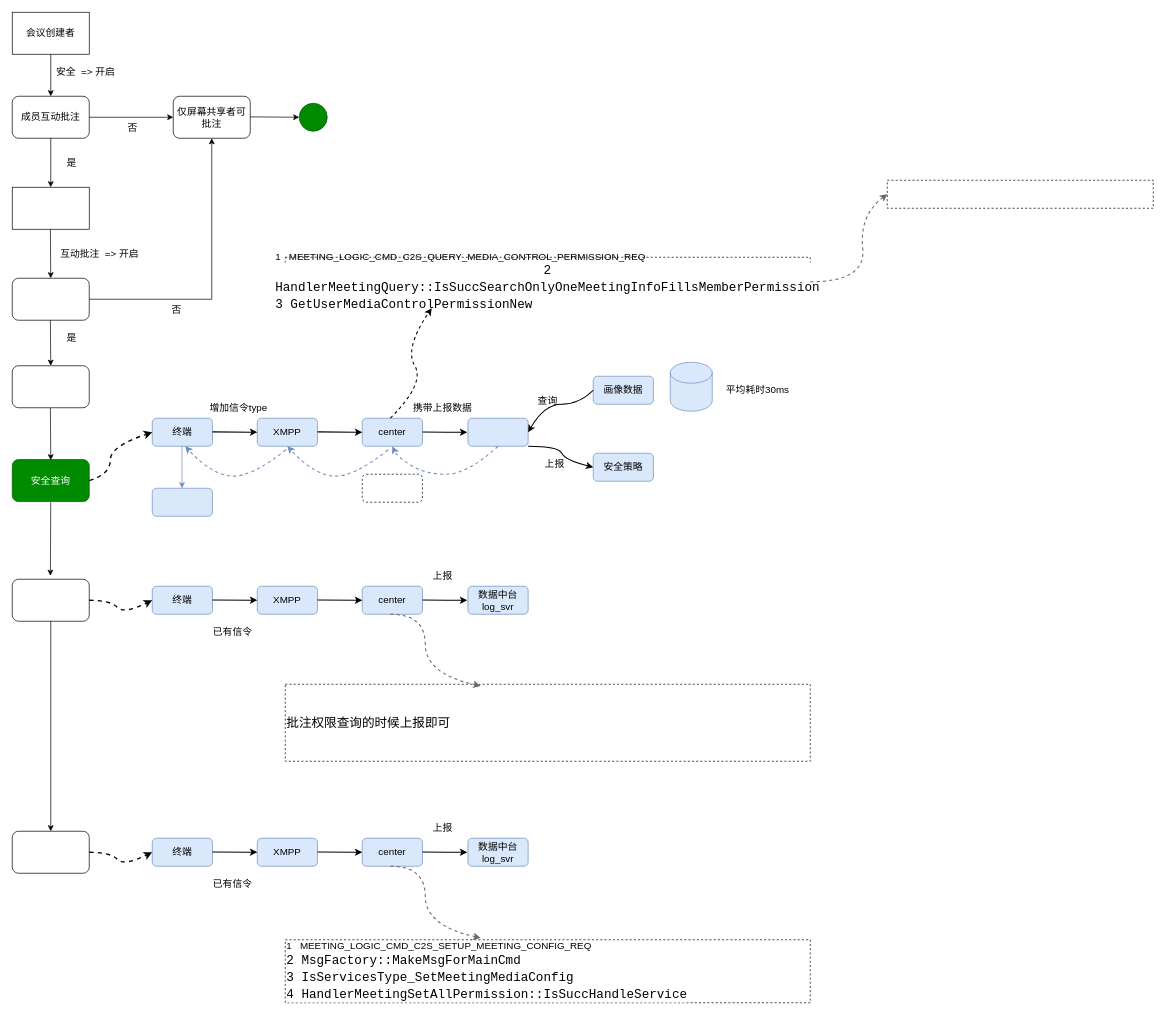
The diagram is 1168 pixels wide and 1015 high, and some of its shapes have lost their labels. The shapes that lost their labels are listed below. From the top down, each one's centre as x and y in pixels, then its label:
At point (50, 208): "屏幕共享者".
At point (1020, 194): "MeetingLogicC2SQueryMediaControlPermissionReqBody :: MediaPermission".
At point (50, 299): "允许成员添加互动批注？".
At point (50, 386): "互动批注".
At point (691, 386): "HBase".
At point (497, 432): "安全".
At point (182, 502): "弹窗提示".
At point (392, 488): "power_mgr".
At point (50, 600): "互动批注打开".
At point (50, 852): "主持人一键关闭 安全：暂停参会者活动".
